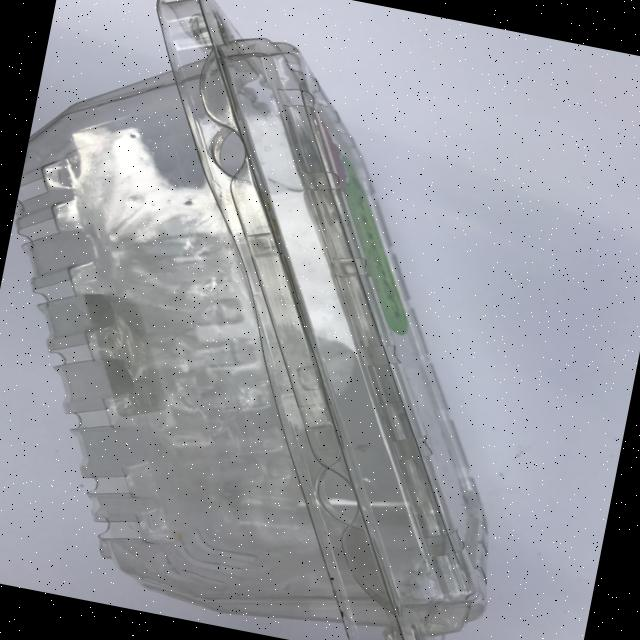plastic: (0, 0, 592, 640)
